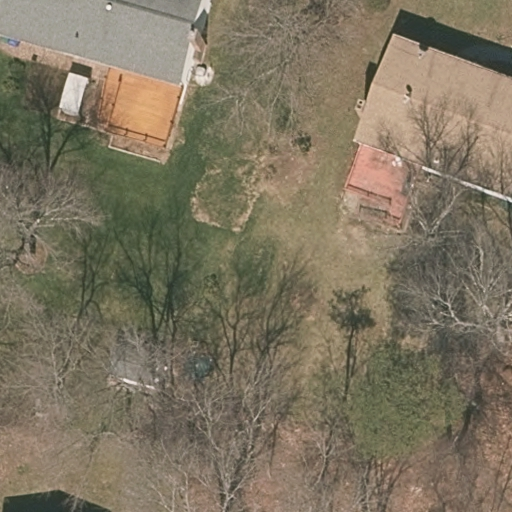DT: (112, 373, 157, 397)
